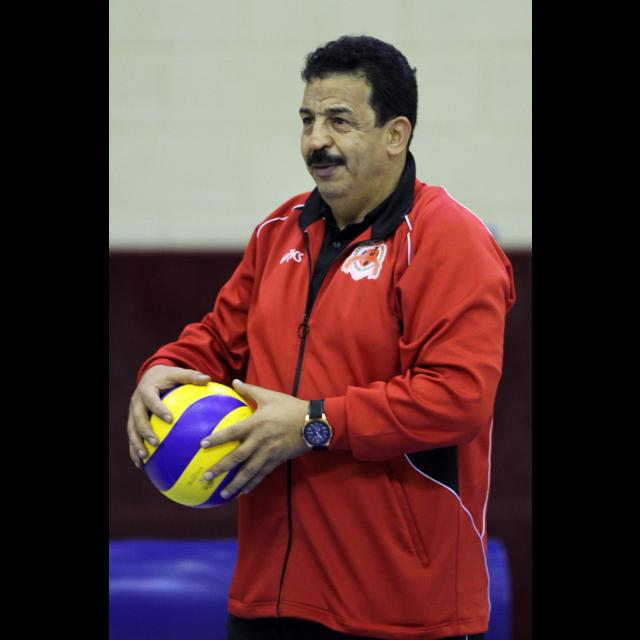Football: (137, 382, 253, 514)
